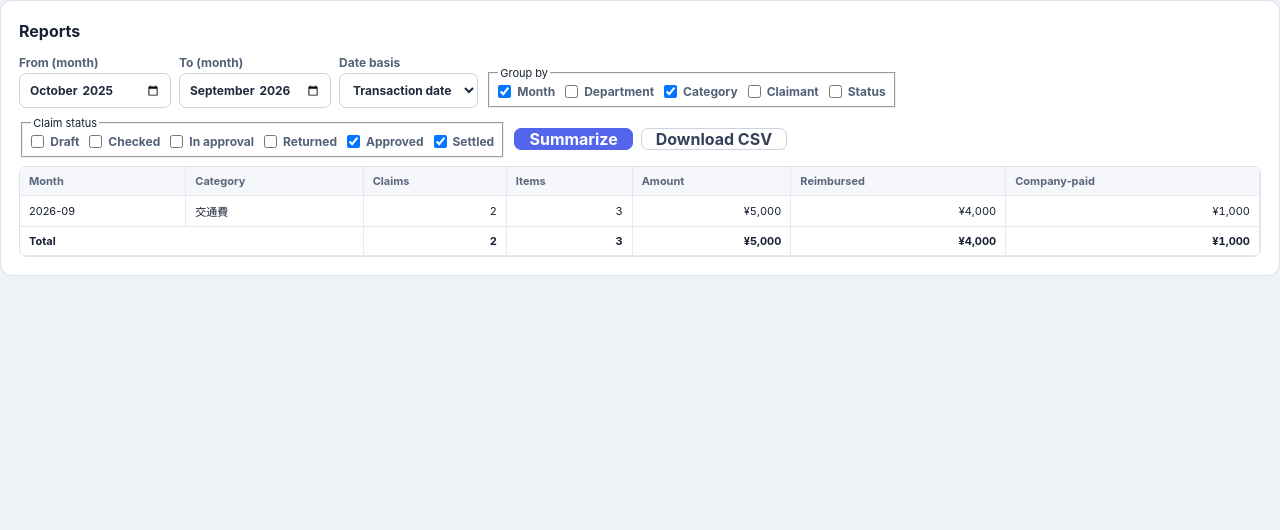
it: ReportsLedger › 正常: CSV を出力し、ダウンロードできない環境ではテキストエリアに出す
Check: the table named "Expense summary" is shown, box [20,167,1260,256]
What coordinates should you click on to do the following:
click the button "Download CSV"
I would click on:
 (714, 139)
Its box is [641,128,787,150].
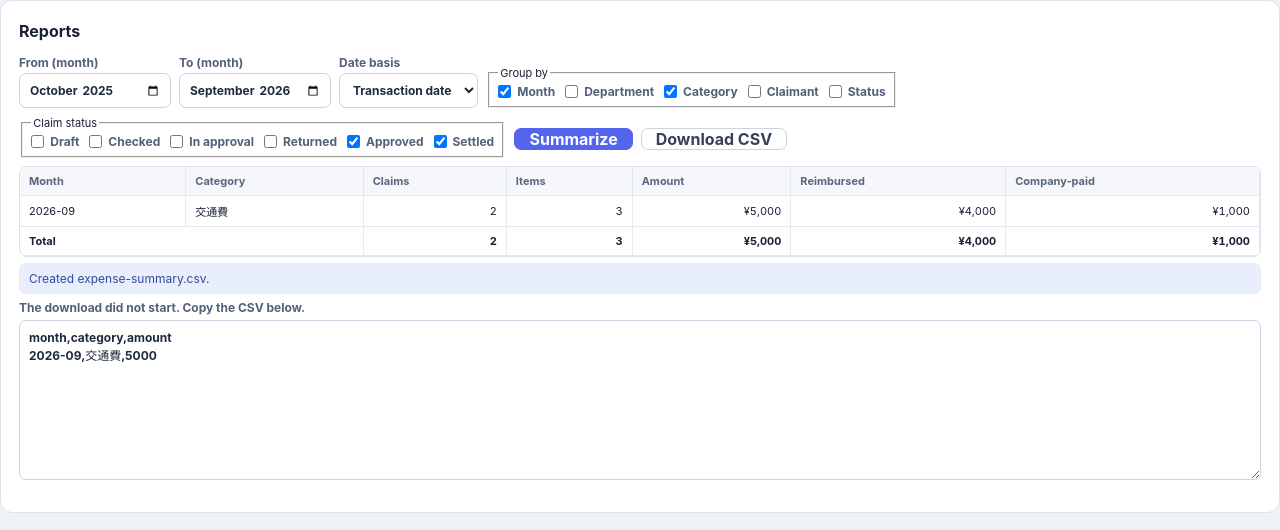
Check: the text "Created expense-summary.csv." is shown, box [19,263,1261,294]
